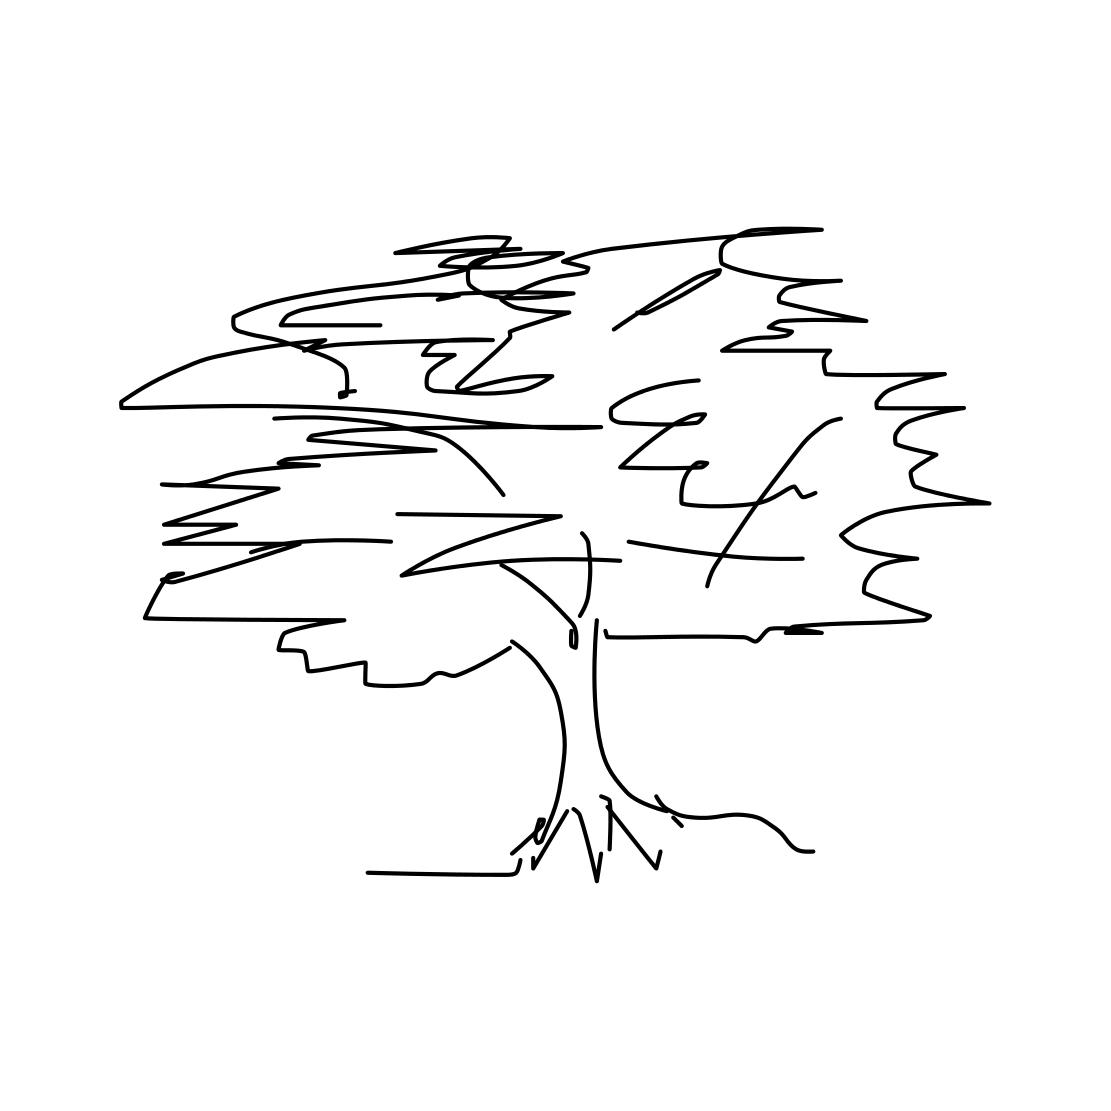Tree: (112, 176, 990, 933)
